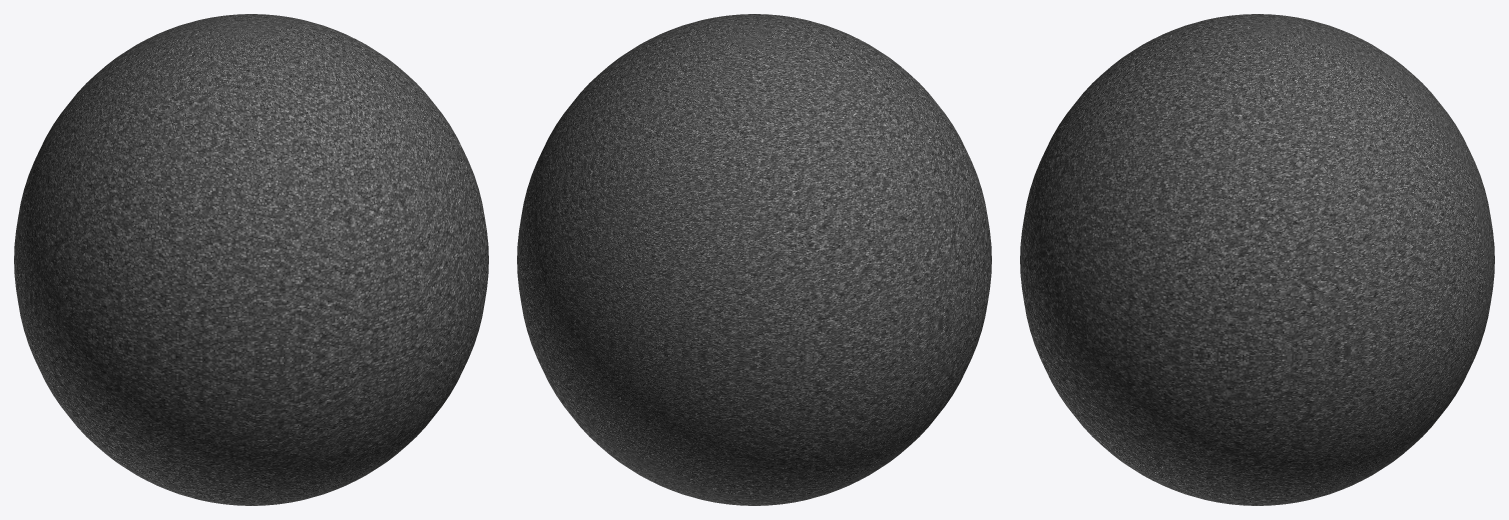
File: cannonball.obj
The picture shows the model from 3 angles, left to right: view 1: azimuth 30°, elevation 25°; view 2: azimuth 150°, elevation 25°; view 3: azimuth 270°, elevation 25°; orthographic projection.
Visible parts, largest first — view 1: Cannonball_Mesh; view 2: Cannonball_Mesh; view 3: Cannonball_Mesh.
Boxes of the visible parts, x1,y1,x2,y2 form: Cannonball_Mesh: [14, 14, 488, 505]; Cannonball_Mesh: [517, 14, 991, 505]; Cannonball_Mesh: [1020, 14, 1494, 505].
Size of the model in its own units: 1.9 by 1.99 by 1.9.
1 material, 1 textured.
